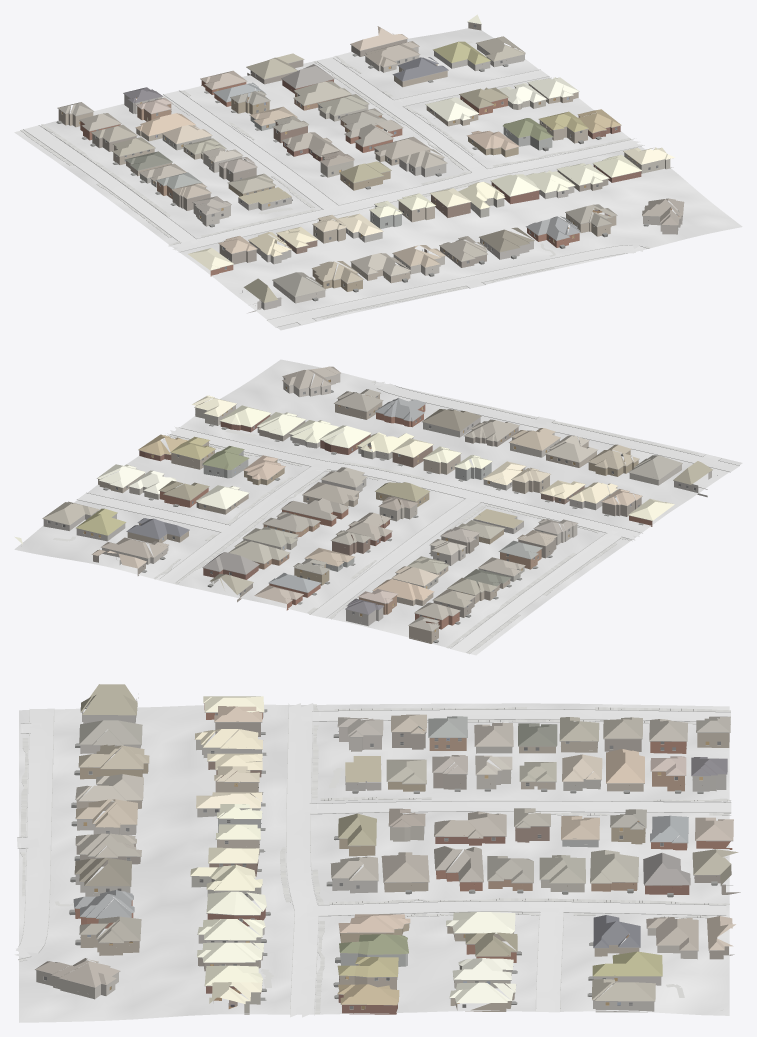
3 renders of one model, top to bottom at view 1: azimuth 30°, elevation 25°; view 2: azimuth 150°, elevation 25°; view 3: azimuth 270°, elevation 25°, orthographic. The views are drawn at different scales.
Visible parts, largest first — view 1: ground, roof, concrete, wall, wall_stucco, detail, walk, curb, wall_stone, glass; view 2: ground, roof, concrete, wall, wall_stucco, detail, walk, curb, wall_stone, glass; view 3: ground, roof, concrete, wall, wall_stucco, walk, detail, curb, wall_stone, glass.
Part boxes in pixels (box(x1,y1,x2,y2)): ground: box(14, 28, 742, 330); roof: box(57, 14, 684, 302); concrete: box(24, 58, 644, 327); wall: box(58, 22, 641, 291); wall_stucco: box(136, 47, 682, 303); detail: box(56, 22, 682, 304); walk: box(20, 41, 650, 318); curb: box(21, 57, 648, 327); wall_stone: box(124, 44, 574, 313); glass: box(95, 25, 658, 286); ground: box(14, 359, 742, 655); roof: box(14, 366, 712, 631); concrete: box(77, 381, 739, 652); wall: box(93, 394, 652, 643); wall_stucco: box(102, 373, 681, 605); detail: box(21, 373, 717, 642); walk: box(53, 380, 698, 653); curb: box(77, 381, 739, 653); wall_stone: box(43, 417, 711, 626); glass: box(48, 389, 695, 619); ground: box(19, 703, 729, 1022); roof: box(35, 684, 738, 1005); concrete: box(14, 703, 731, 1017); wall: box(74, 703, 740, 1014); wall_stucco: box(36, 727, 697, 1014); walk: box(18, 704, 730, 1014); detail: box(35, 698, 732, 1010); curb: box(17, 703, 731, 1014); wall_stone: box(75, 699, 726, 1012); glass: box(44, 713, 720, 1009).
Bounding box in the file's own units: 258 × 16.85 × 256.
